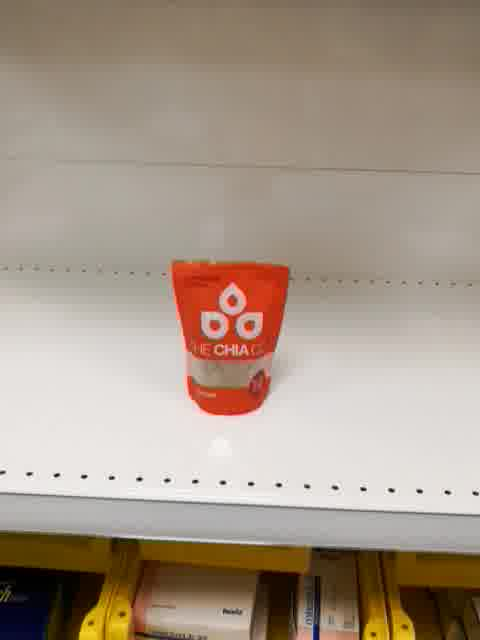whitechia: (170, 256, 292, 418)
